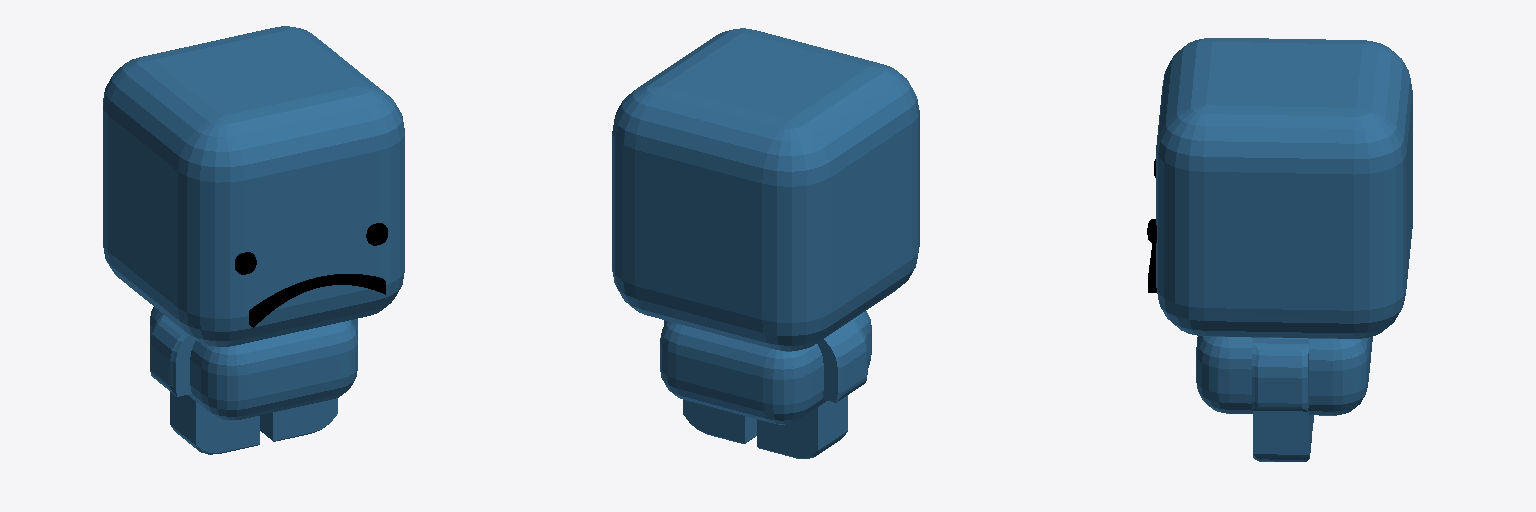
Rendered from sad.obj.
The picture shows the model from 3 angles: view 1: azimuth 30°, elevation 25°; view 2: azimuth 150°, elevation 25°; view 3: azimuth 270°, elevation 25°; orthographic projection.
Visible parts, largest first — view 1: The_limited_1_Head_1, The_limited_1_Body, The_limited_1_mouth; view 2: The_limited_1_Head_1, The_limited_1_Body; view 3: The_limited_1_Head_1, The_limited_1_Body.
Boxes of the visible parts, x1,y1,x2,y2 form: The_limited_1_Head_1: [103, 26, 404, 346]; The_limited_1_Body: [150, 307, 357, 454]; The_limited_1_mouth: [249, 274, 385, 327]; The_limited_1_Head_1: [612, 28, 919, 351]; The_limited_1_Body: [660, 311, 871, 458]; The_limited_1_Head_1: [1156, 38, 1412, 338]; The_limited_1_Body: [1196, 336, 1372, 461].
Size of the model in its own units: 3.03 by 4.72 by 3.13.